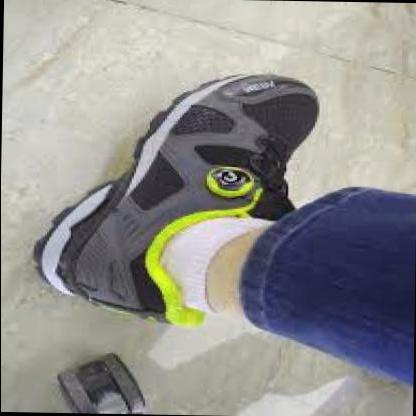safety-shoe: (32, 66, 339, 343)
